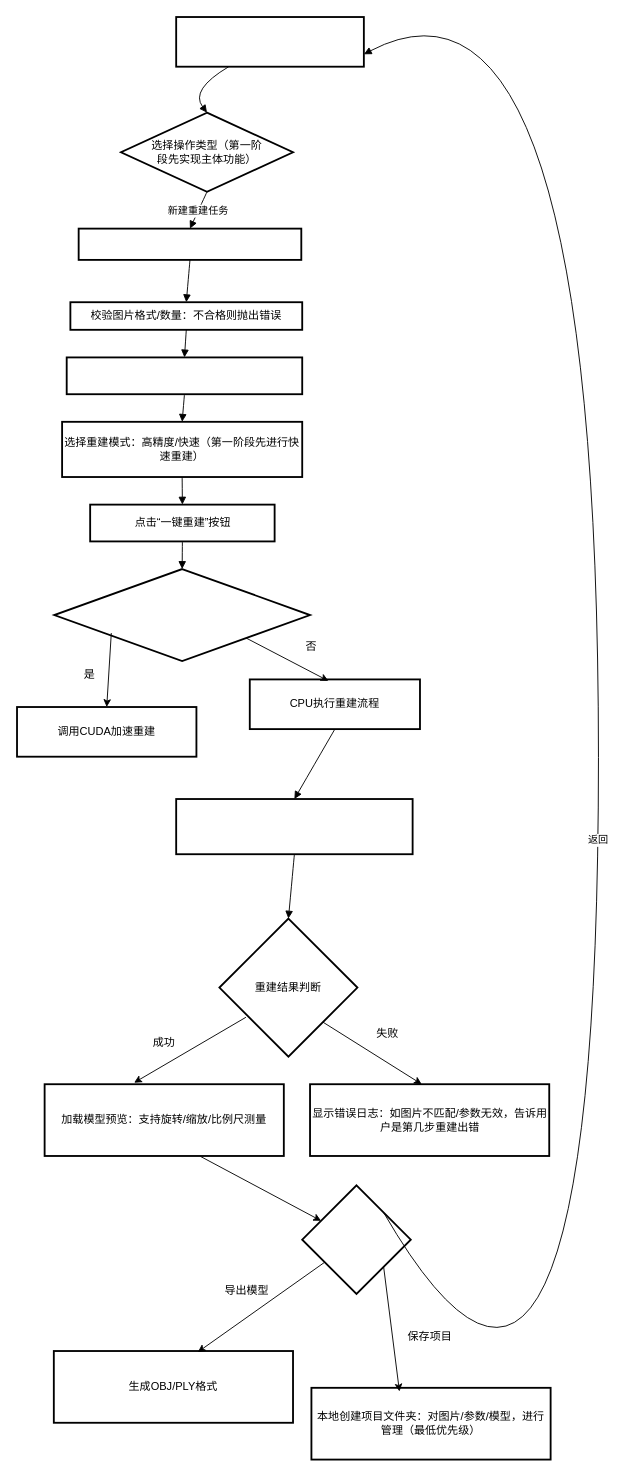
The diagram is 625 pixels wide and 1476 high, and some of its shapes have lost their labels. Each missing label, with the centre of its shape:
"上传图片：选择本地PNG/JPG，≤100张" goes at (189,243).
"判断是否支持GPU加速（最低优先级）" goes at (181,614).
"开始：用户打开软件" goes at (269,41).
"用户操作" goes at (356,1239).
"输入相机参数：焦距/像素尺寸/畸变系数，可自动提前也可手动输入" goes at (184,375).
"重建中：显示进度条，支持暂停/取消（次优先级）" goes at (294,826).
